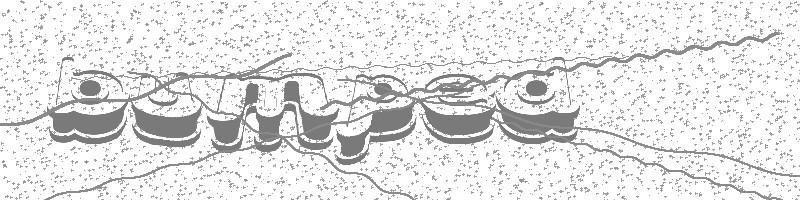b: (46, 55, 130, 145)
d: (497, 56, 581, 145)
e: (419, 73, 496, 144)
m: (206, 73, 338, 154)
p: (336, 73, 417, 166)
u: (131, 72, 202, 148)
